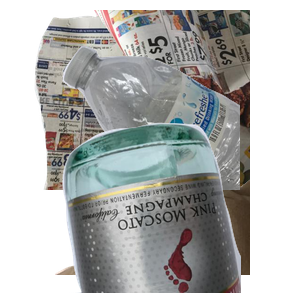glass: (60, 120, 300, 300)
paper: (32, 10, 272, 190)
plastic: (60, 44, 300, 224)
trash: (52, 120, 292, 300)
